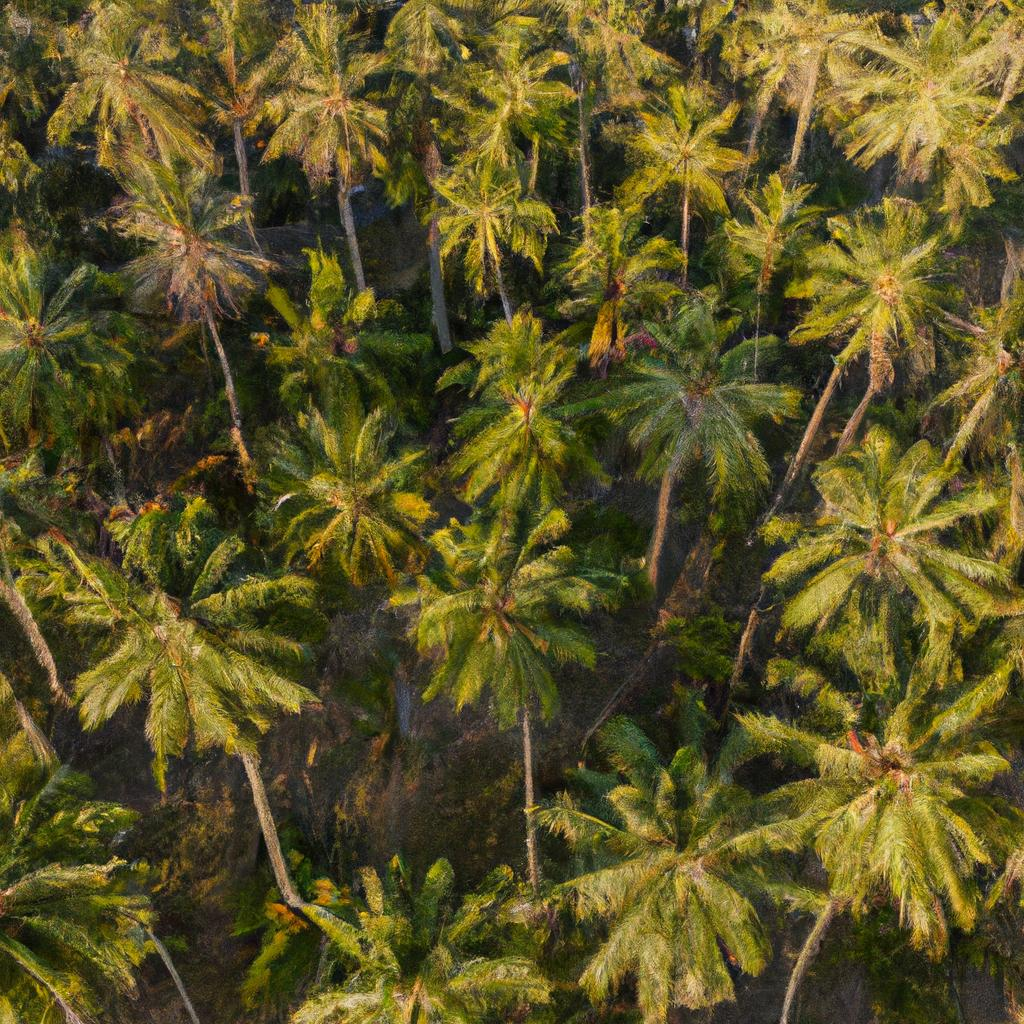coconut_tree: (21, 486, 348, 786), (538, 729, 824, 1021), (742, 643, 1023, 931), (734, 429, 1023, 634), (411, 501, 626, 742), (600, 304, 810, 515), (259, 408, 454, 589), (802, 201, 997, 378), (437, 305, 594, 512)
